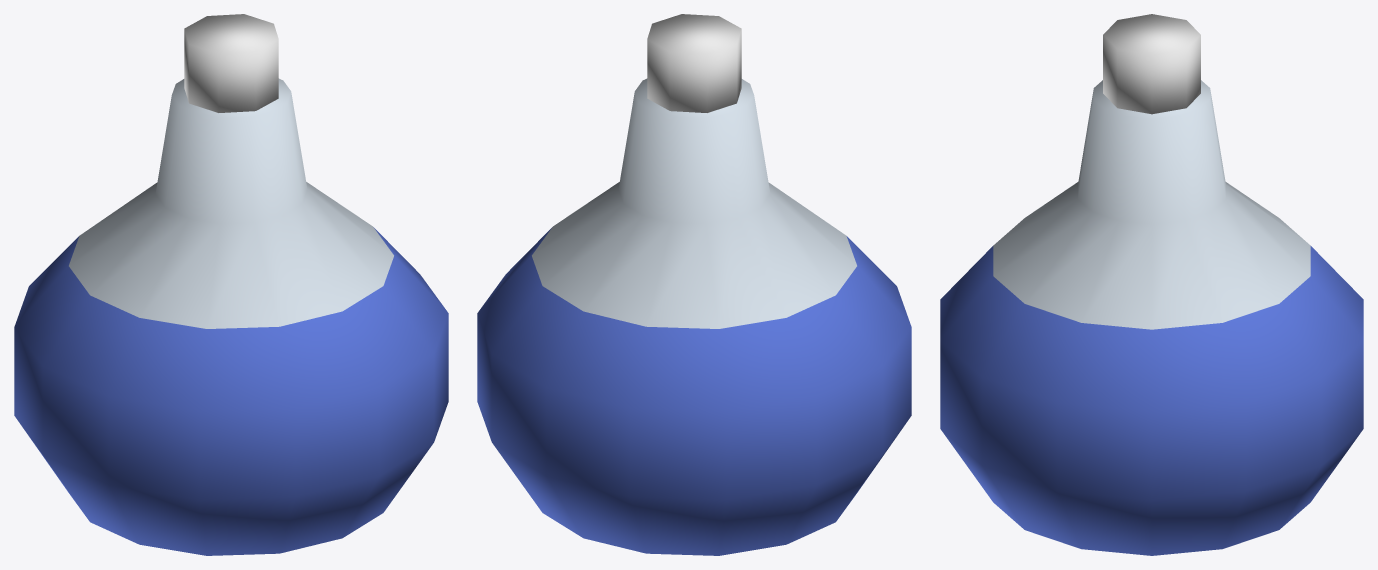
The model's file is greater_mana_potion.glb.
3 renders of one model, left to right at view 1: azimuth 30°, elevation 25°; view 2: azimuth 150°, elevation 25°; view 3: azimuth 270°, elevation 25°, orthographic.
Visible parts, largest first — view 1: greater_mana_potion_v0; view 2: greater_mana_potion_v0; view 3: greater_mana_potion_v0.
Part boxes in pixels (x1,y1,x2,y2): greater_mana_potion_v0: [14, 14, 448, 555]; greater_mana_potion_v0: [477, 14, 911, 555]; greater_mana_potion_v0: [940, 14, 1363, 555].
Bounding box in the file's own units: 0.24 × 0.276 × 0.234.
